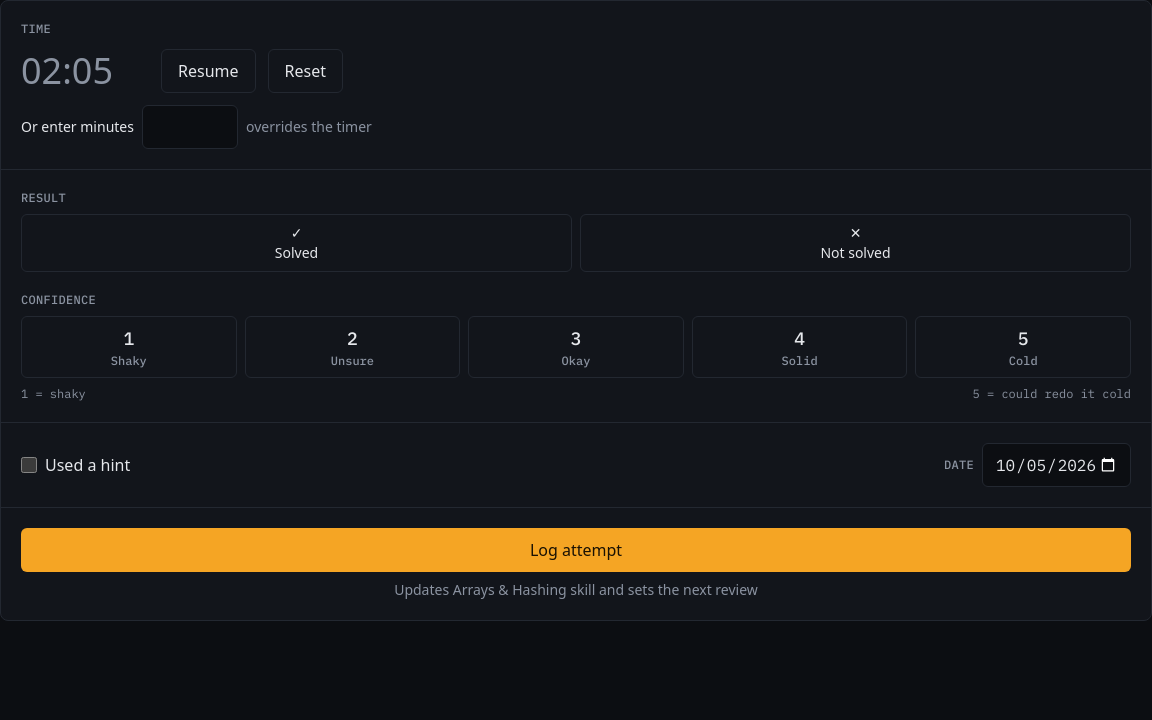
Test: uses the timer when minutes are blank, then resets it
The width and height of the screenshot is (1152, 720).
Expected: the text named "Timer" reads "02:05", [21,46,113,95]
Click the radio button labelled "Solved" at (296,243), box [21,214,572,272]
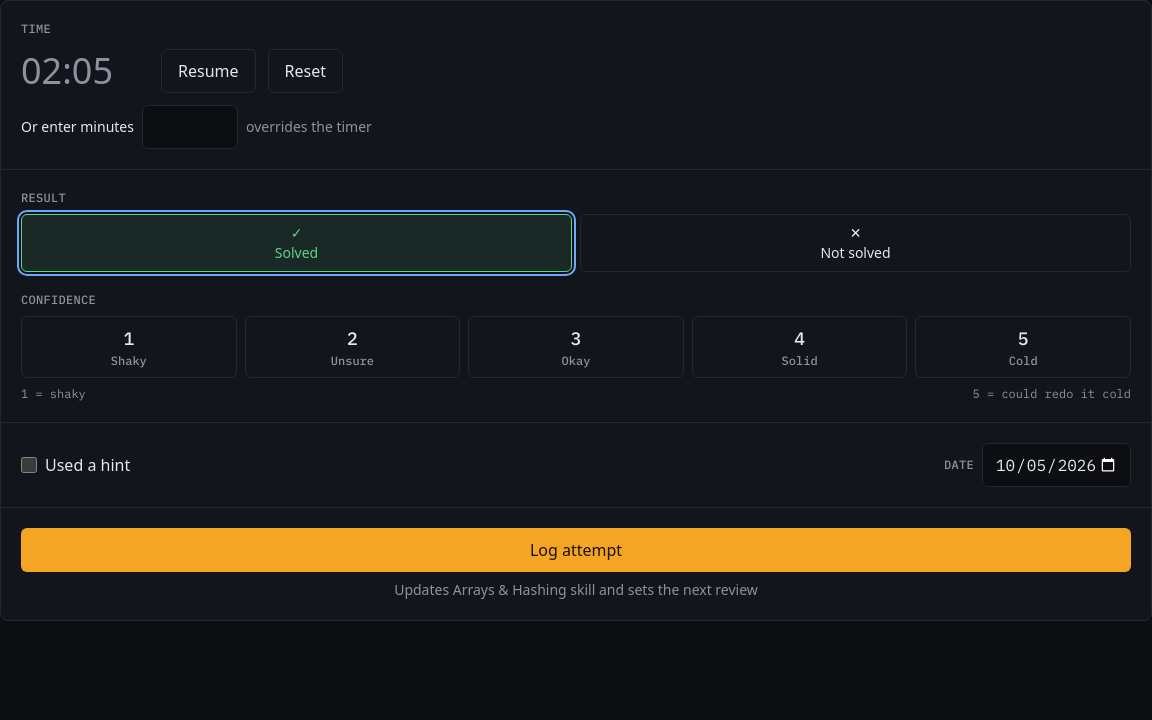
Click the radio button labelled "4 Solid" at (800,347), box [692,316,907,378]
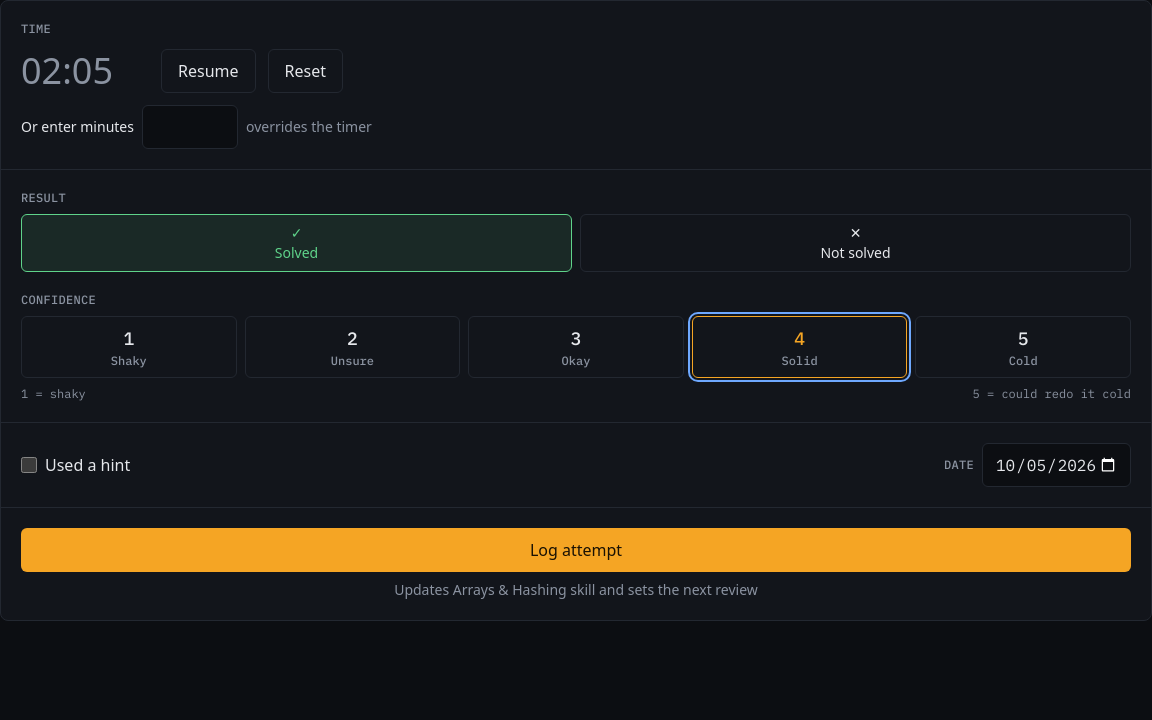
Click the button "Log attempt" at (576,550), box [21,528,1131,572]
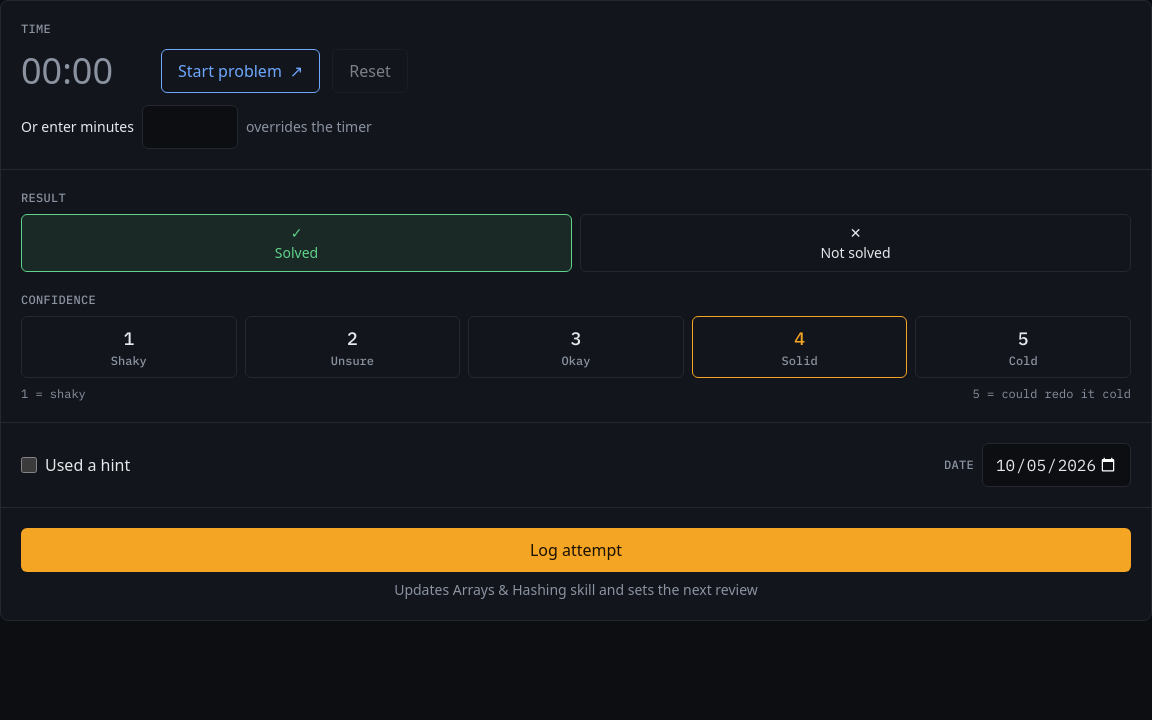
Result: the text named "Timer" reads "00:00" at [21,46,113,95]
